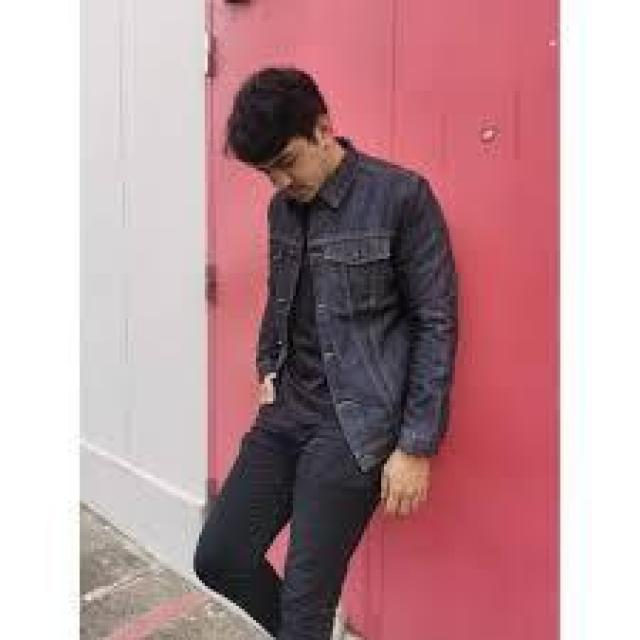jacket: (248, 175, 467, 462)
pants: (199, 388, 376, 633)
